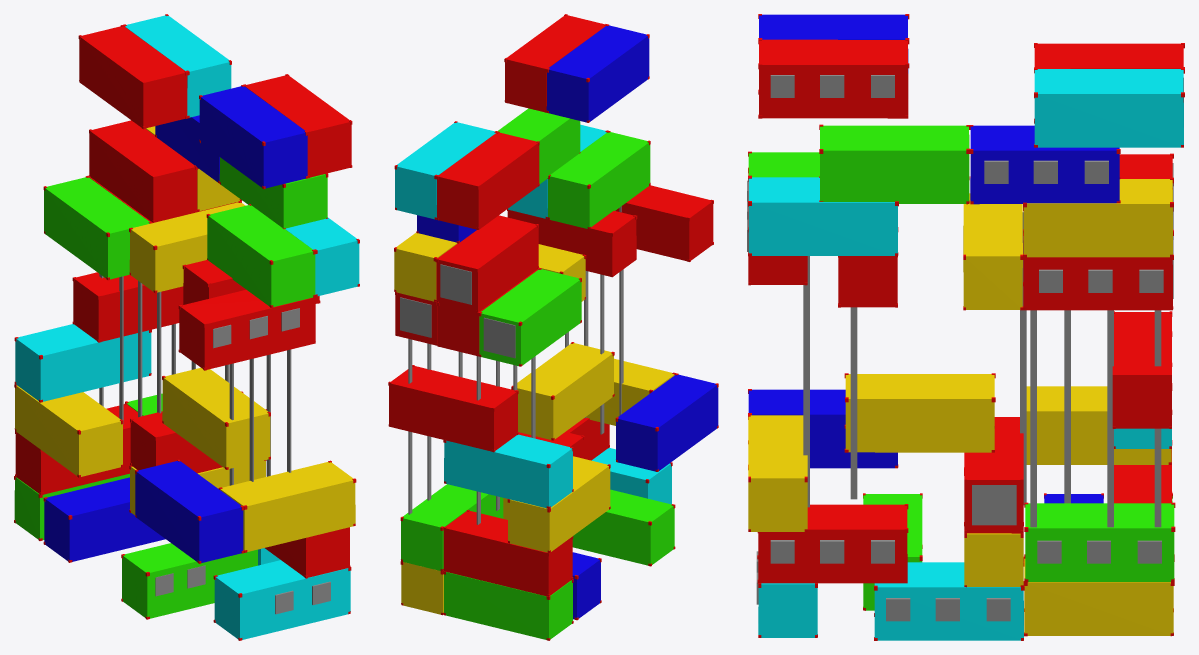
File: ParentPart10FBX.FBX
3 renders of one model, left to right at view 1: azimuth 30°, elevation 25°; view 2: azimuth 150°, elevation 25°; view 3: azimuth 270°, elevation 25°, orthographic. The views are drawn at different scales.
Parts seen in each view (by area): view 1: ParentPart10; view 2: ParentPart10; view 3: ParentPart10.
Part boxes in pixels (x1,y1,x2,y2): ParentPart10: (14, 14, 359, 640); ParentPart10: (388, 14, 718, 640); ParentPart10: (747, 14, 1184, 640).
Bounding box in the file's own units: 3.16 × 6.02 × 8.72.
